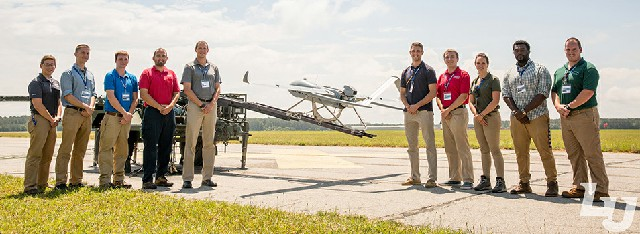maybay_khongnguoilai: (243, 60, 404, 129)
